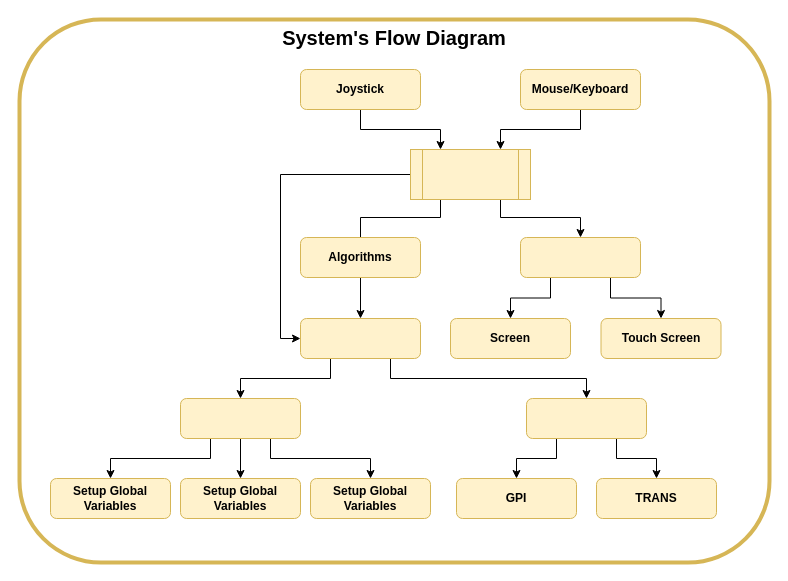
This 788x581 diagram has some shape labels left out. The shapes that lost their labels are listed below. From the top down, each one's centre as x and y in pixels, then its label:
point (470, 174): S/W Core
point (580, 257): UI
point (360, 338): H/U Manager
point (240, 418): Motor Driver
point (586, 418): Light Driver
